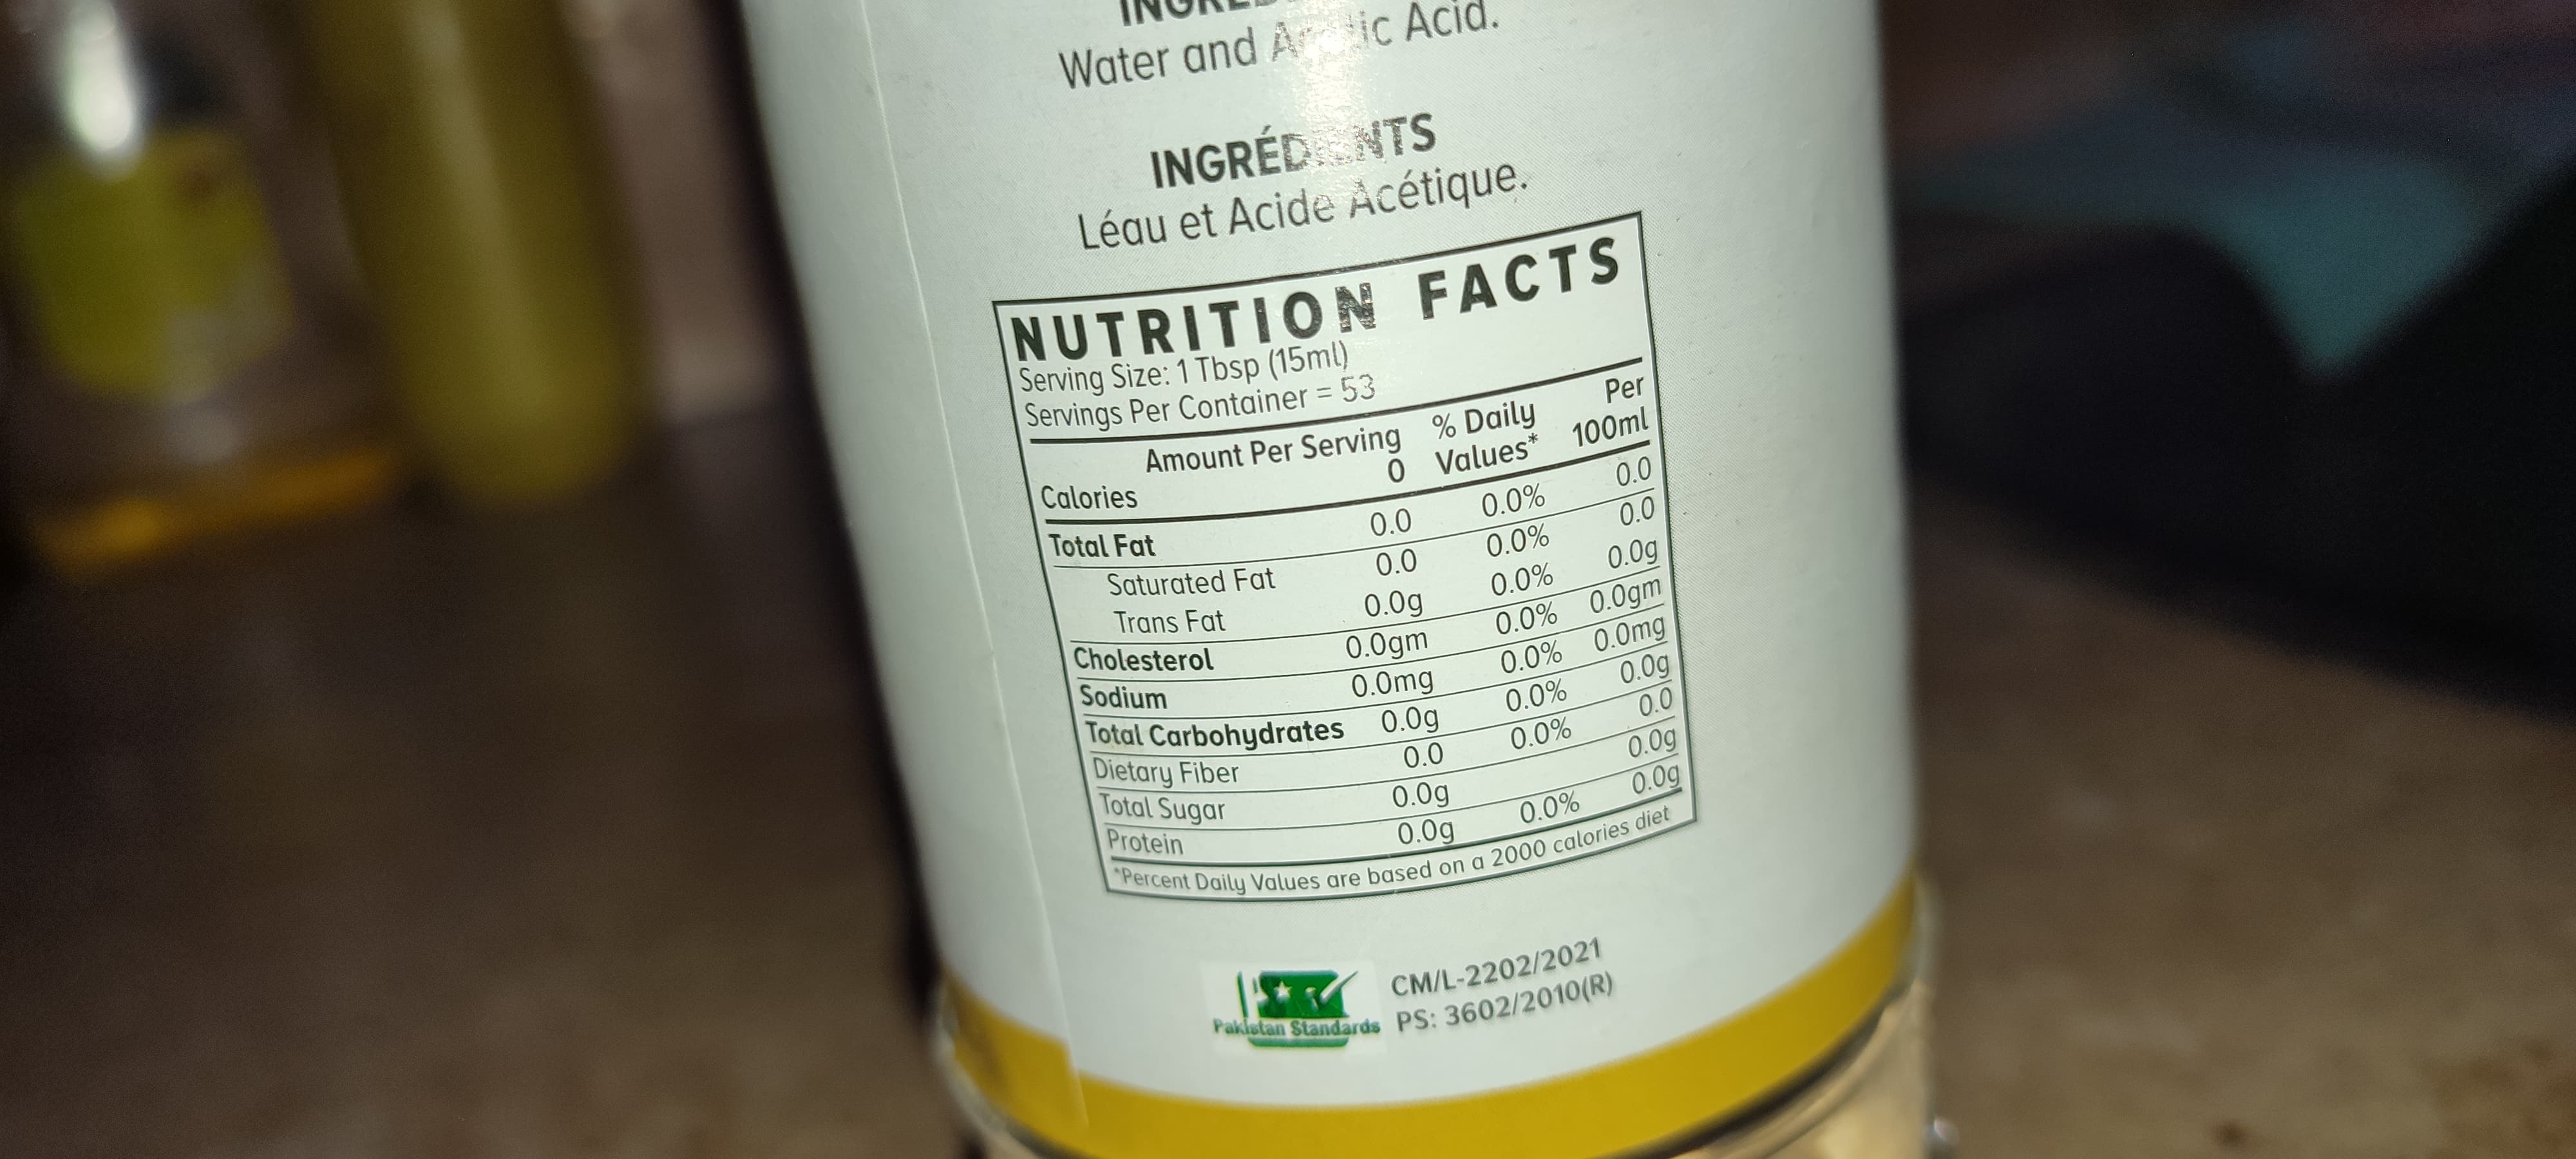table: (977, 205, 1732, 914)
